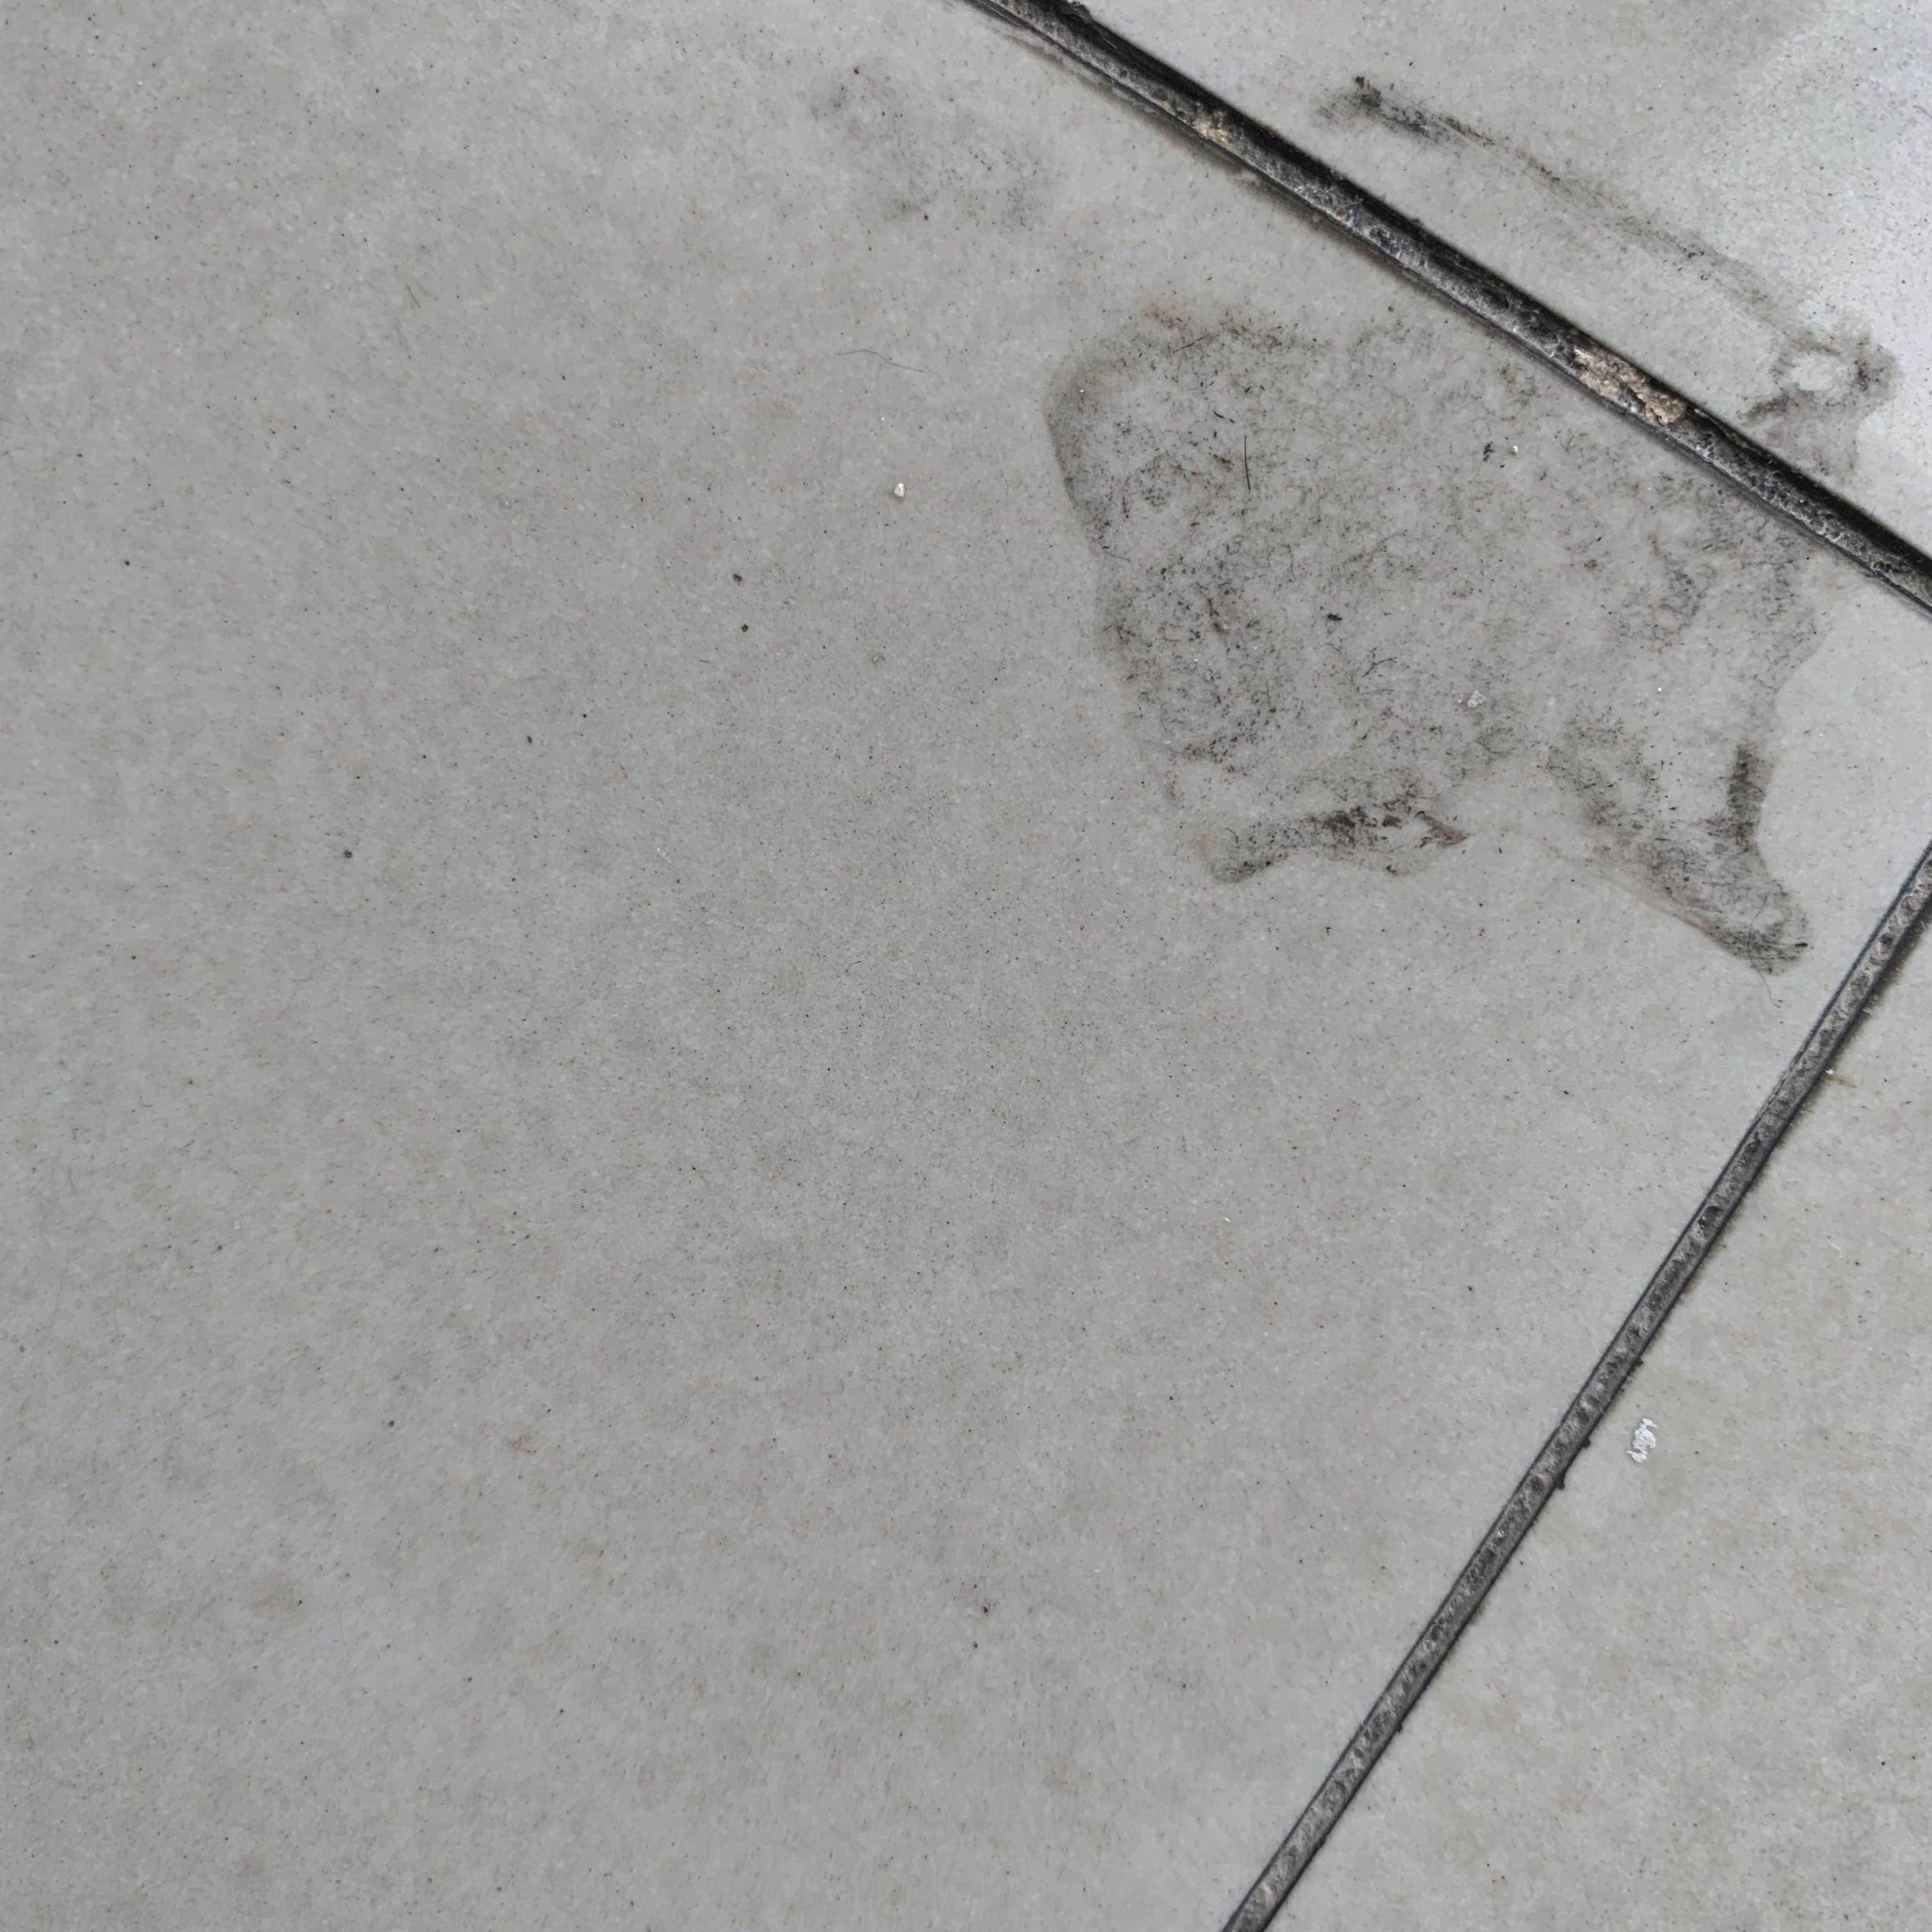grey spot: (1046, 74, 1902, 978)
